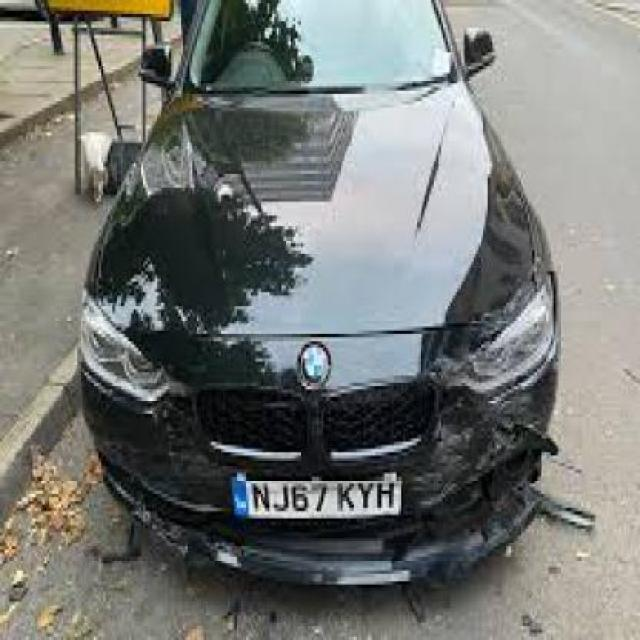damaged-front-bumper: (87, 389, 556, 566)
